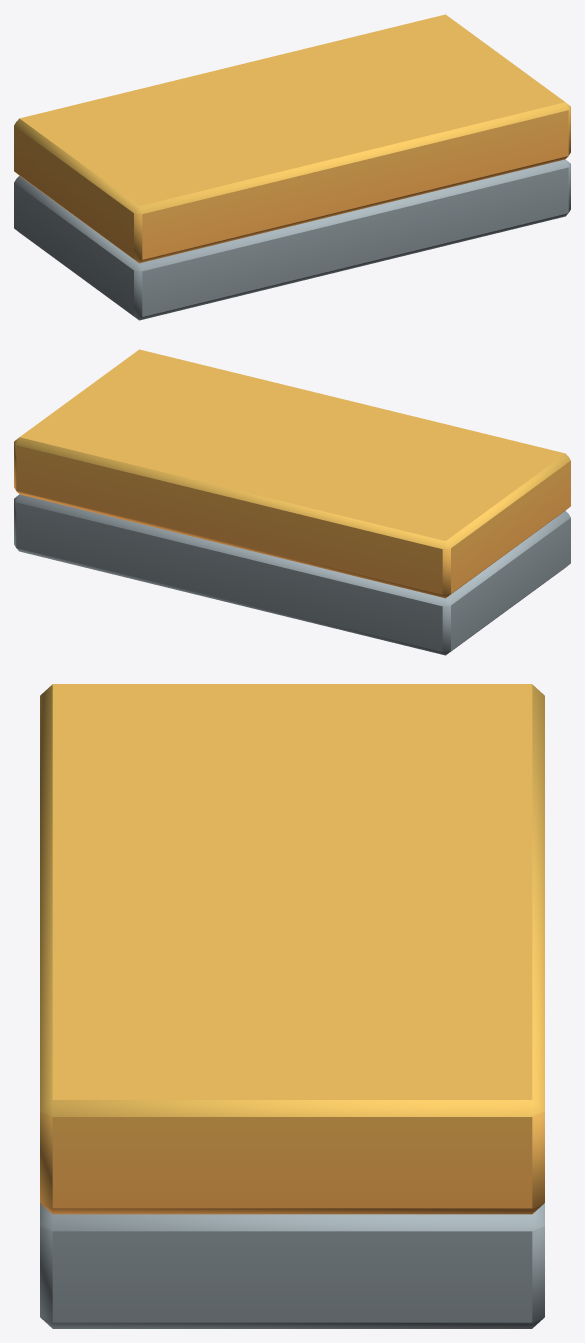
Rendered from platform_4x2x1_yellow.glb.
3 renders of one model, top to bottom at view 1: azimuth 30°, elevation 25°; view 2: azimuth 150°, elevation 25°; view 3: azimuth 270°, elevation 25°, orthographic. The views are drawn at different scales.
Visible parts, largest first — view 1: platform_4x2x1_yellow; view 2: platform_4x2x1_yellow; view 3: platform_4x2x1_yellow.
Part boxes in pixels (x1,y1,x2,y2): platform_4x2x1_yellow: (14, 14, 570, 320); platform_4x2x1_yellow: (14, 349, 570, 655); platform_4x2x1_yellow: (40, 684, 544, 1328).
Bounding box in the file's own units: 4 × 1 × 2.
1 material, 1 textured.
